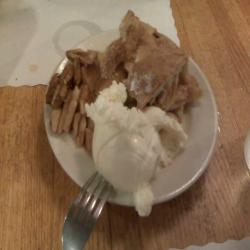apple_pie: (108, 14, 204, 131)
icecream: (86, 89, 188, 207)
